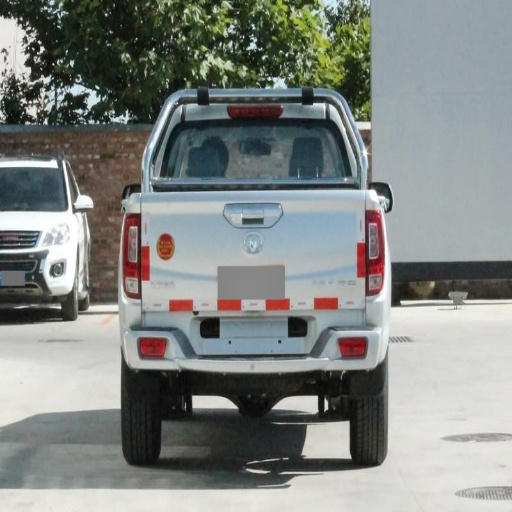back_bumper: (123, 299, 384, 390)
back_right_light: (360, 198, 387, 300)
trunk: (146, 182, 383, 352)
